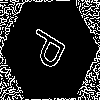P: (25, 25, 75, 77)
